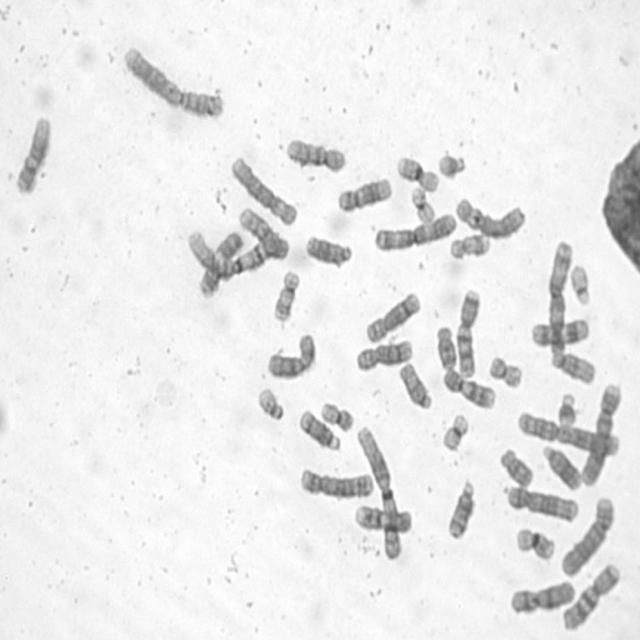A1: (354, 422, 402, 562), (183, 227, 288, 284)
A2: (120, 43, 226, 121), (514, 408, 622, 457)
A3: (371, 208, 458, 253), (544, 238, 574, 362)
B4: (559, 492, 617, 577), (578, 379, 623, 488)
B5: (504, 482, 580, 523), (297, 465, 375, 500)
C10: (237, 204, 290, 262), (284, 134, 348, 175)
C11: (198, 230, 245, 299), (528, 314, 590, 349)
C12: (12, 112, 53, 196), (334, 173, 394, 214)
C6: (228, 152, 299, 226), (452, 194, 528, 241)
C7: (559, 561, 623, 632), (454, 286, 483, 380)
C8: (363, 288, 423, 344), (352, 336, 414, 373)
C9: (441, 365, 496, 411), (352, 501, 414, 534)
D13: (302, 230, 354, 270), (542, 439, 583, 489)
D14: (296, 406, 342, 454), (444, 476, 476, 542)
D15: (397, 360, 434, 410), (549, 348, 597, 386)
E16: (394, 153, 440, 195), (516, 526, 556, 562)
E17: (270, 268, 302, 324), (447, 230, 491, 261)
E18: (498, 446, 536, 492), (433, 322, 459, 372)
F19: (438, 410, 471, 453), (407, 182, 438, 226)
F20: (487, 352, 524, 390), (319, 397, 356, 433)
G21: (435, 148, 468, 180), (554, 389, 579, 429)
G22: (256, 384, 286, 422), (568, 264, 592, 306)
X: (264, 329, 318, 382), (507, 576, 577, 616)
